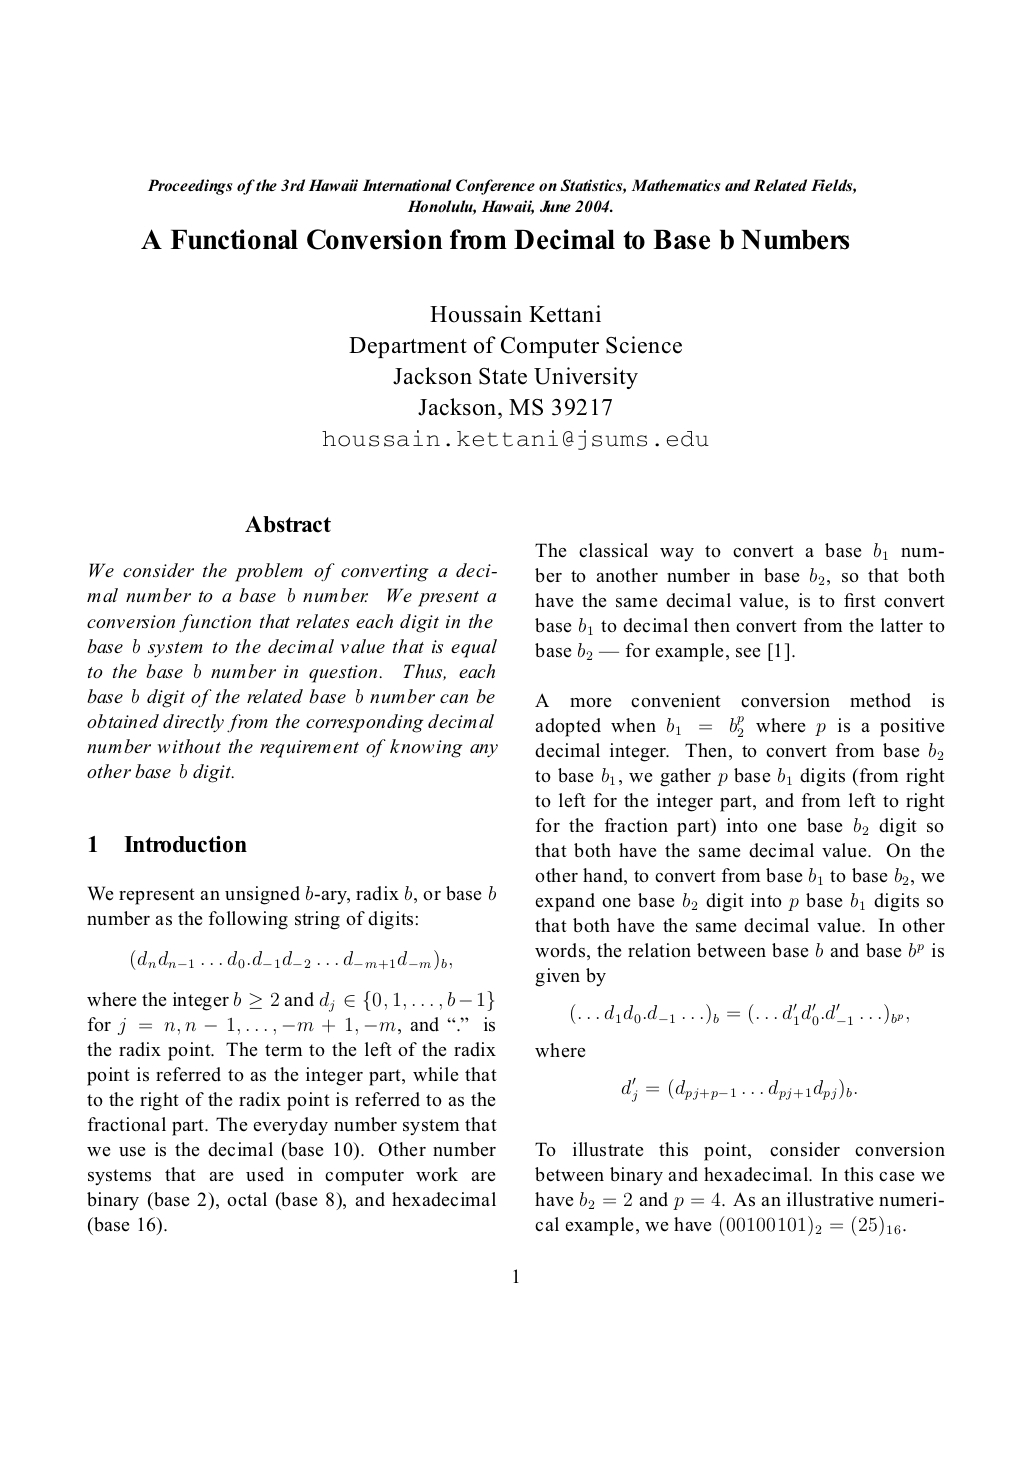formula: (571, 1002, 908, 1026), (131, 949, 451, 970), (621, 1076, 856, 1102)
